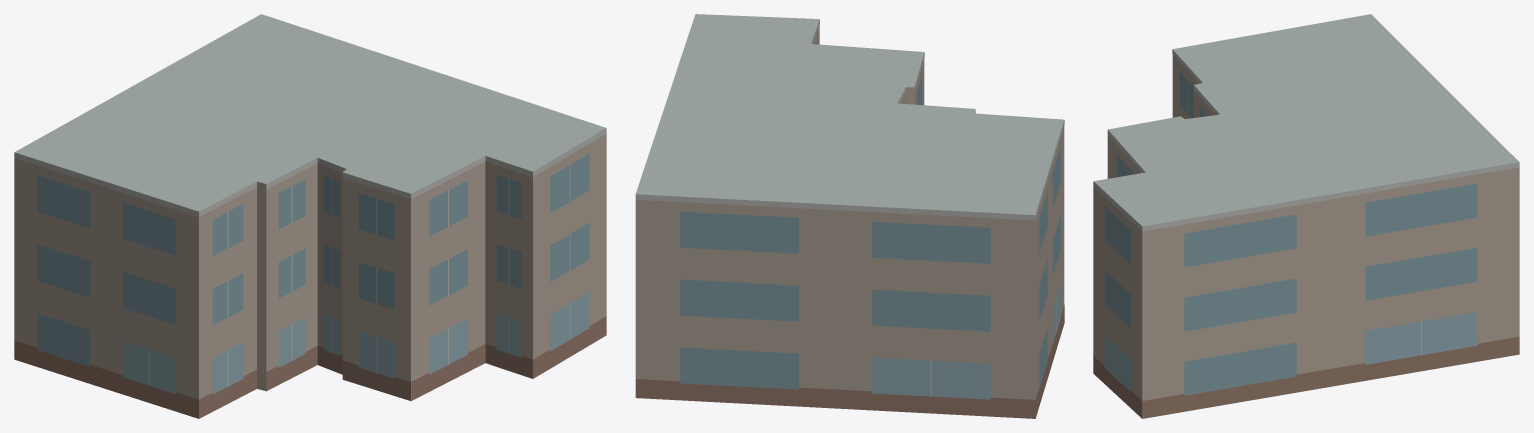
The model's file is survey-upis-32910545.glb.
3 renders of one model, left to right at view 1: azimuth 30°, elevation 25°; view 2: azimuth 150°, elevation 25°; view 3: azimuth 270°, elevation 25°, orthographic. The views are drawn at different scales.
Visible parts, largest first — view 1: survey-upis-32910545.tmp; view 2: survey-upis-32910545.tmp; view 3: survey-upis-32910545.tmp.
Boxes of the visible parts, <box> form: survey-upis-32910545.tmp: <box>14,14,606,418</box>; survey-upis-32910545.tmp: <box>635,14,1064,418</box>; survey-upis-32910545.tmp: <box>1093,14,1519,418</box>.
Bounding box in the file's own units: 21.69 × 9.15 × 18.37.
